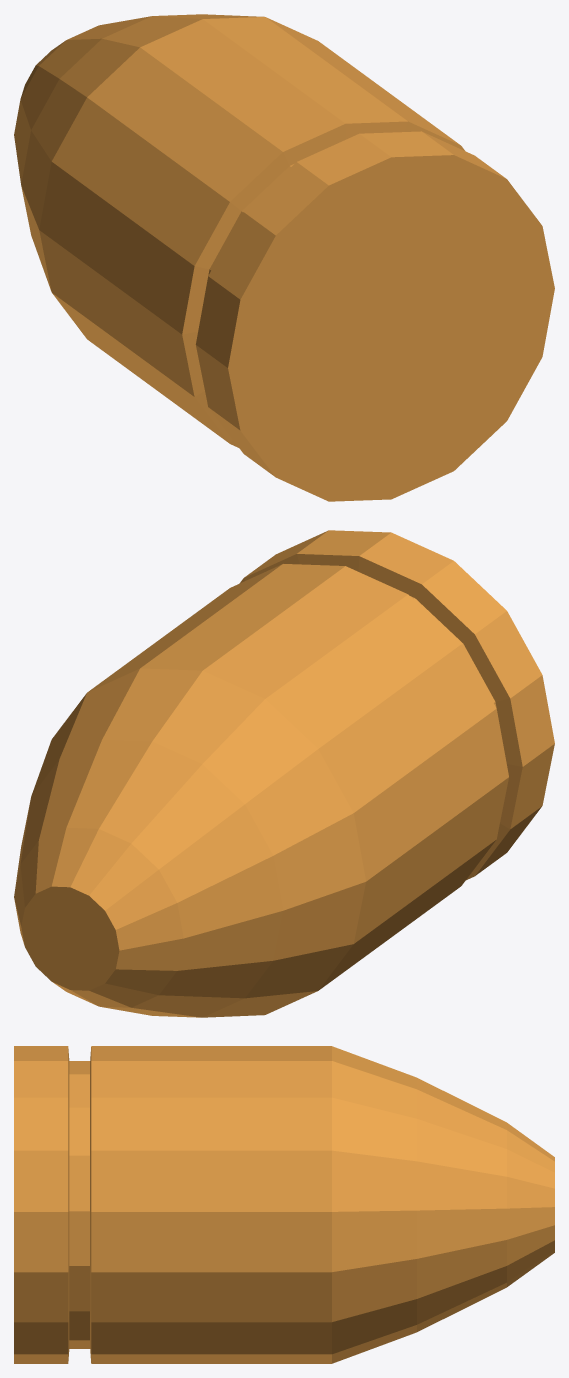
The model's file is pistols_bullet.fbx.
3 renders of one model, top to bottom at view 1: azimuth 30°, elevation 25°; view 2: azimuth 150°, elevation 25°; view 3: azimuth 270°, elevation 25°, orthographic. The views are drawn at different scales.
Parts seen in each view (by area): view 1: Bullet; view 2: Bullet; view 3: Bullet.
Boxes of the visible parts, x1,y1,x2,y2 form: Bullet: (14, 14, 554, 501); Bullet: (14, 530, 554, 1017); Bullet: (14, 1046, 554, 1363).
Bounding box in the file's own units: 66.44 × 66.44 × 113.
